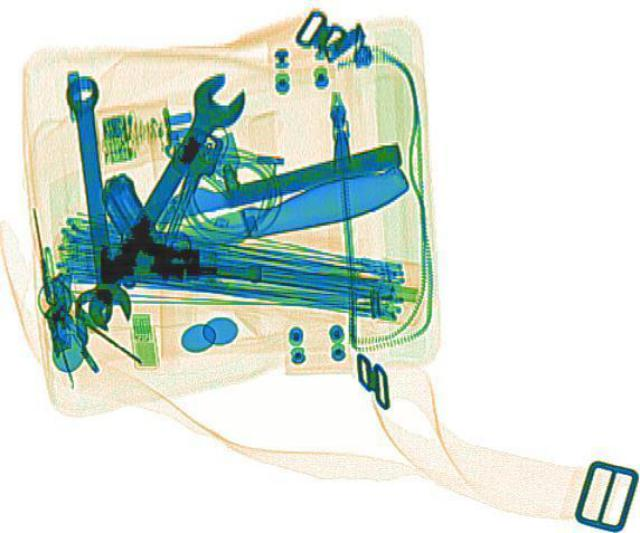Gun: (86, 170, 272, 283)
Knife: (66, 158, 414, 297), (61, 133, 403, 249)
Wrench: (56, 66, 260, 327), (58, 75, 134, 330)
